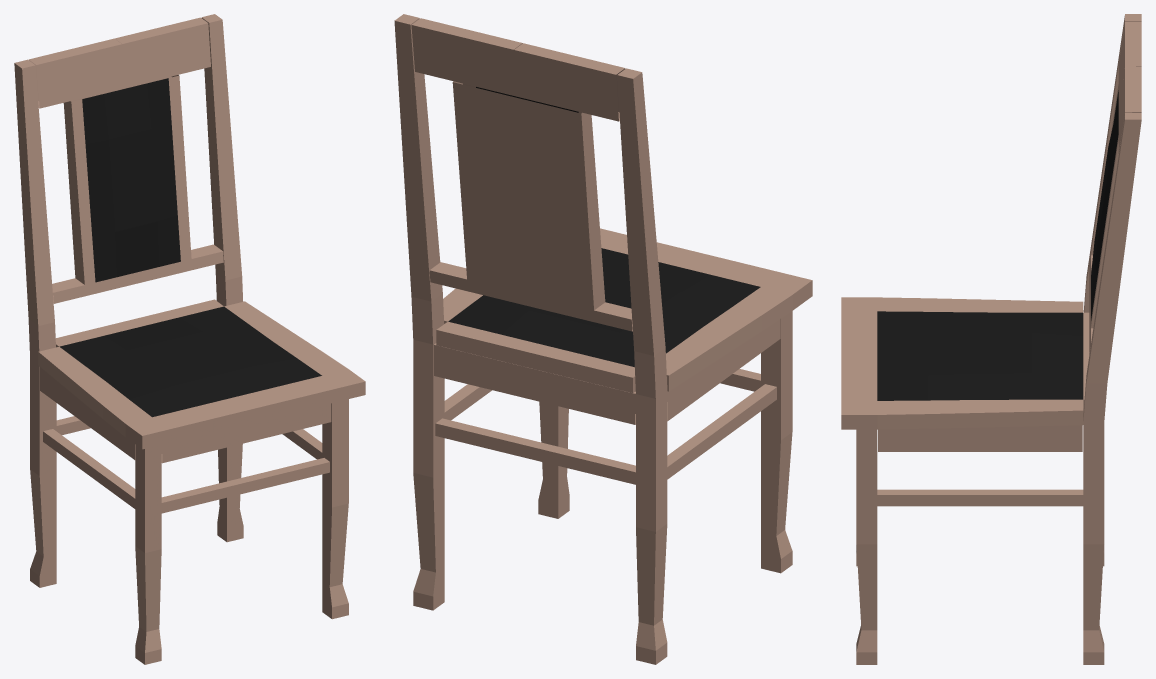
File: 2stul1.glb
The picture shows the model from 3 angles, left to right: view 1: azimuth 30°, elevation 25°; view 2: azimuth 150°, elevation 25°; view 3: azimuth 270°, elevation 25°; orthographic projection. The views are drawn at different scales.
Parts seen in each view (by area): view 1: Плоскость.028; view 2: Плоскость.028; view 3: Плоскость.028.
Boxes of the visible parts, box(x1,y1,x2,y2) form: Плоскость.028: box(14, 14, 365, 664); Плоскость.028: box(394, 14, 812, 664); Плоскость.028: box(841, 14, 1141, 664).
Size of the model in its own units: 1.73 by 3.74 by 1.87.
